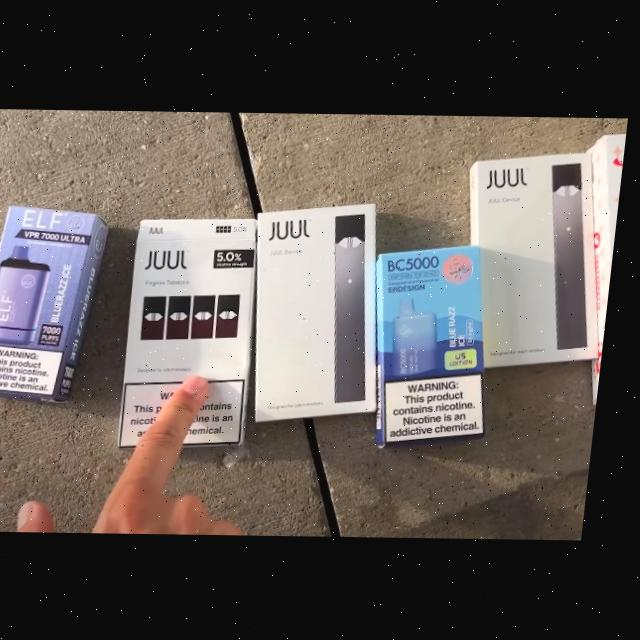vape: (539, 161, 612, 349), (324, 213, 391, 402), (0, 245, 59, 346), (394, 297, 452, 376)
